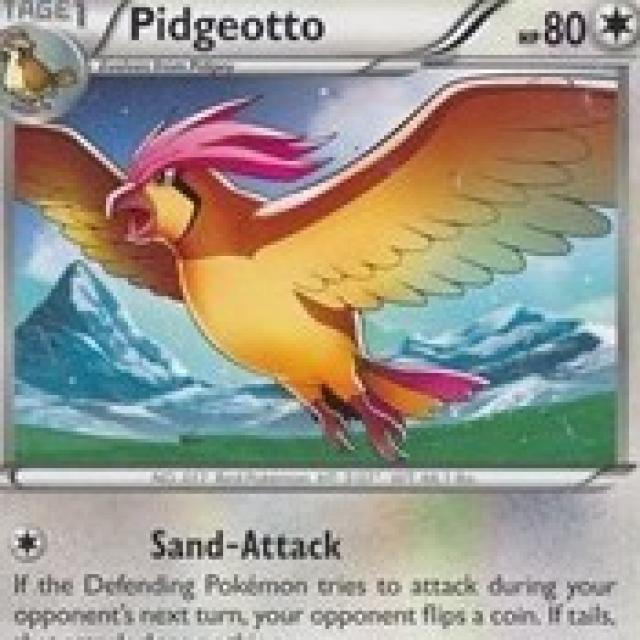Pidgeotto: (28, 114, 518, 452)
